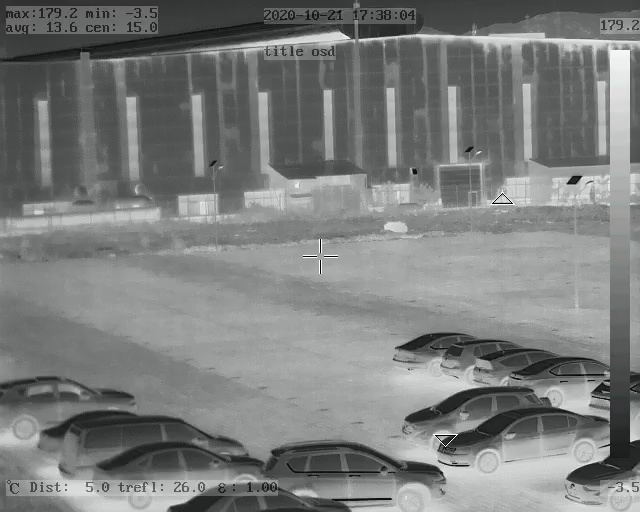vehicle: (267, 438, 448, 508), (92, 441, 267, 506), (41, 416, 251, 466), (445, 408, 609, 470), (1, 374, 138, 438), (411, 383, 533, 438), (563, 443, 639, 509), (505, 356, 607, 401), (467, 344, 546, 386), (394, 327, 464, 371), (440, 336, 500, 380)
